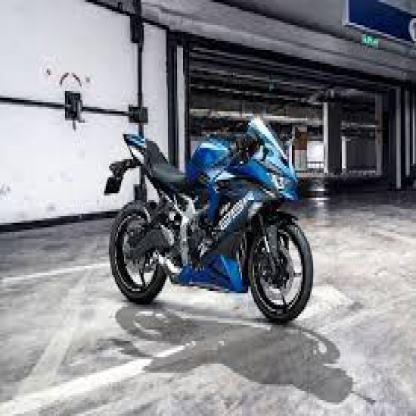Motorcycle: (102, 113, 318, 333)
